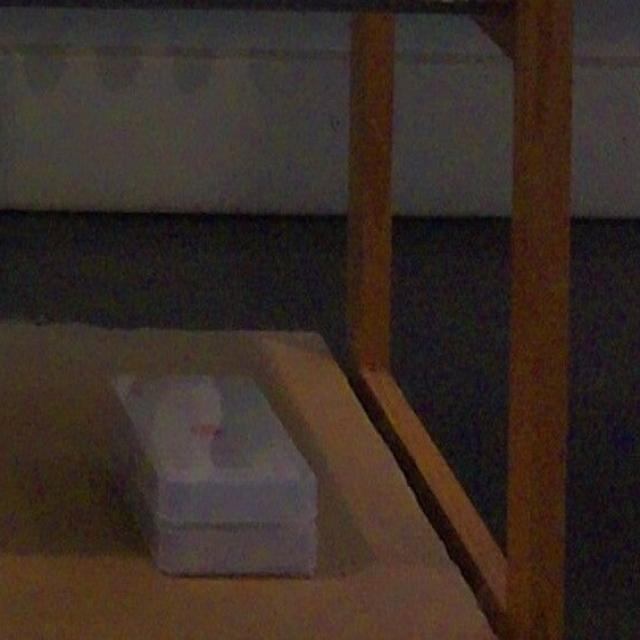Jasskarte: (110, 374, 317, 524), (110, 430, 316, 574)
